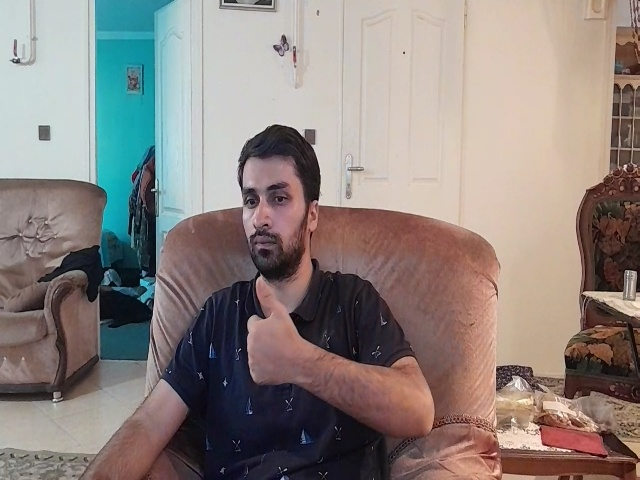ThumbsUp: (245, 273, 299, 387)
